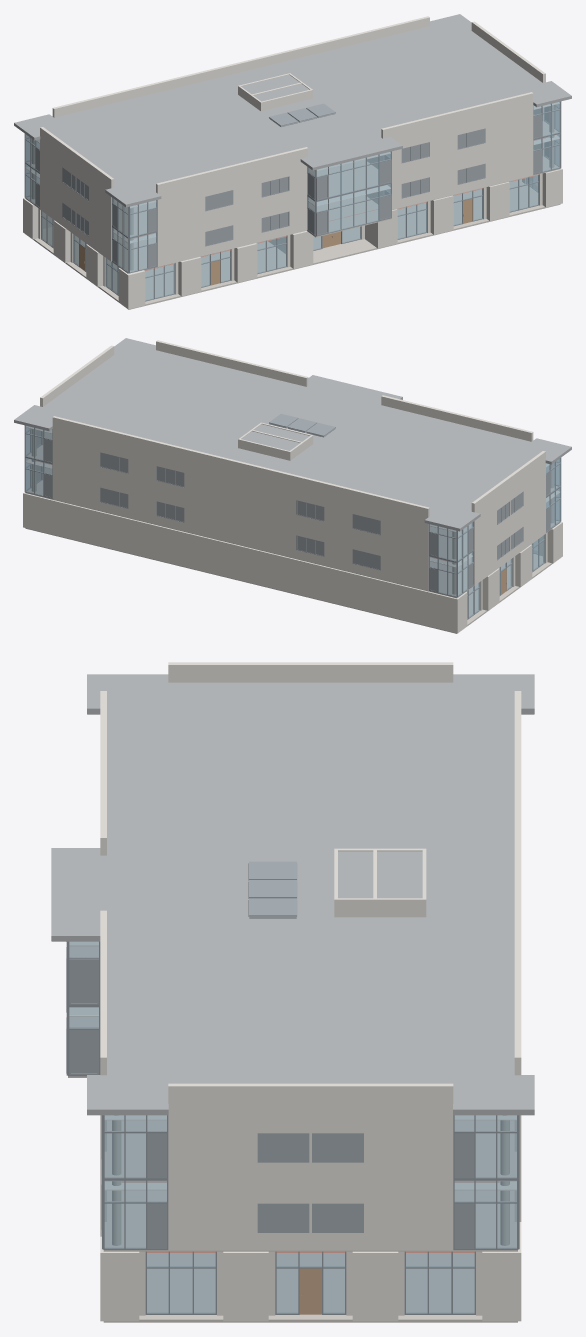
3 renders of one model, top to bottom at view 1: azimuth 30°, elevation 25°; view 2: azimuth 150°, elevation 25°; view 3: azimuth 270°, elevation 25°, orthographic. The views are drawn at different scales.
Visible parts, largest first — view 1: walls, roofs, glass, floors, windows, mullions, ceilings, doors, columns; view 2: walls, roofs, windows, glass, floors, mullions, columns, ceilings; view 3: roofs, walls, glass, floors, windows, mullions, columns, ceilings, doors.
Boxes of the visible parts, x1,y1,x2,y2 form: walls: (23, 16, 562, 309); roofs: (14, 14, 571, 207); glass: (25, 101, 559, 300); floors: (25, 121, 560, 309); windows: (35, 103, 548, 268); mullions: (24, 101, 561, 301); ceilings: (26, 102, 559, 243); doors: (79, 198, 472, 285); columns: (32, 105, 553, 270); walls: (23, 340, 562, 633); roofs: (14, 338, 571, 531); windows: (37, 413, 550, 592); glass: (25, 425, 560, 618); floors: (25, 445, 559, 633); mullions: (24, 425, 561, 619); columns: (32, 429, 553, 594); ceilings: (26, 426, 559, 567); roofs: (51, 674, 534, 1115); walls: (100, 662, 521, 1321); glass: (69, 941, 516, 1313); floors: (68, 947, 517, 1322); windows: (66, 861, 474, 1248); mullions: (66, 941, 519, 1314); columns: (112, 1120, 509, 1245); ceilings: (69, 942, 516, 1190); doors: (299, 1268, 321, 1314).
Size of the model in its own units: 48.5 by 12.34 by 22.75.
